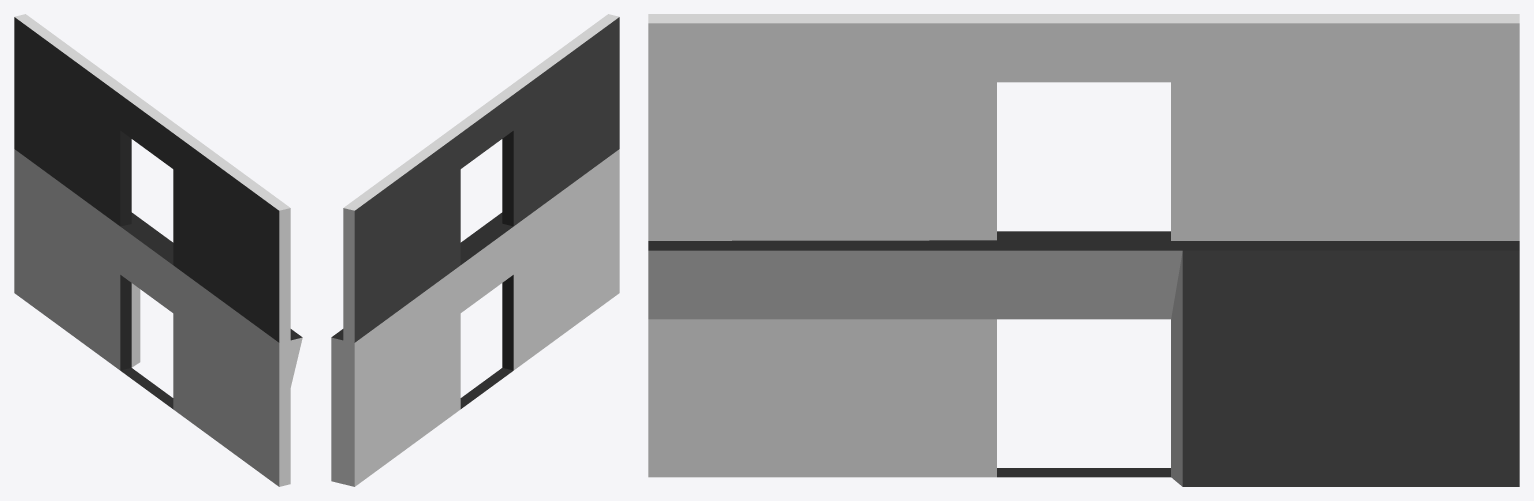
The model's file is Storage_Fill.fbx.
The picture shows the model from 3 angles, left to right: view 1: azimuth 30°, elevation 25°; view 2: azimuth 150°, elevation 25°; view 3: azimuth 270°, elevation 25°; orthographic projection. The views are drawn at different scales.
Parts seen in each view (by area): view 1: Storage_Fill; view 2: Storage_Fill; view 3: Storage_Fill.
Part boxes in pixels (bbox=[...]): Storage_Fill: bbox=[14, 14, 302, 486]; Storage_Fill: bbox=[331, 14, 619, 486]; Storage_Fill: bbox=[648, 14, 1519, 486].
Bounding box in the file's own units: 205 × 2300 × 4000.
